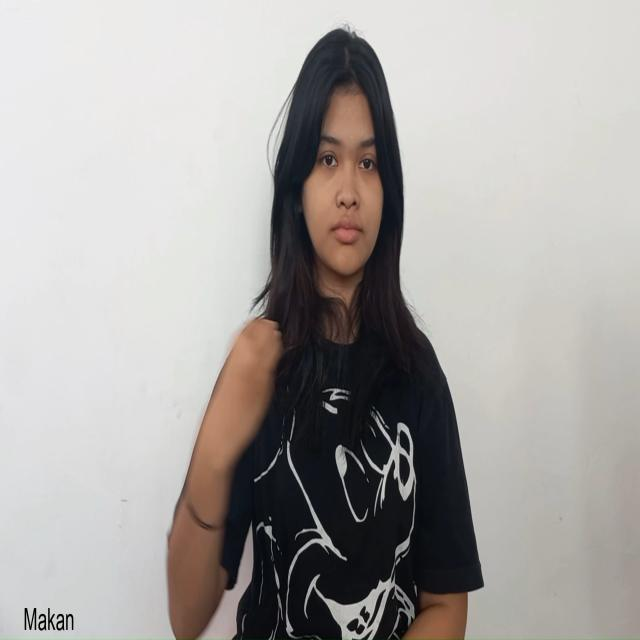Makan -BISINDO-: (196, 315, 284, 486)
